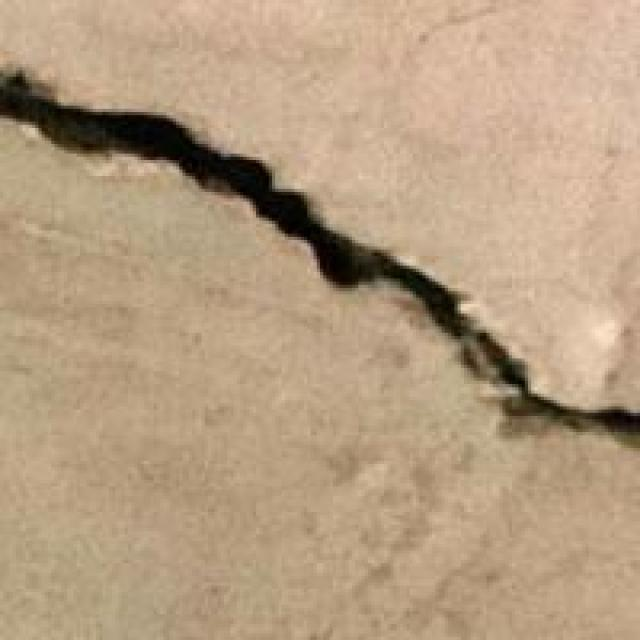Crack: (6, 64, 637, 467)
